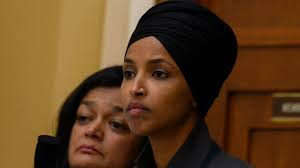indian_female: (21, 71, 146, 168)
